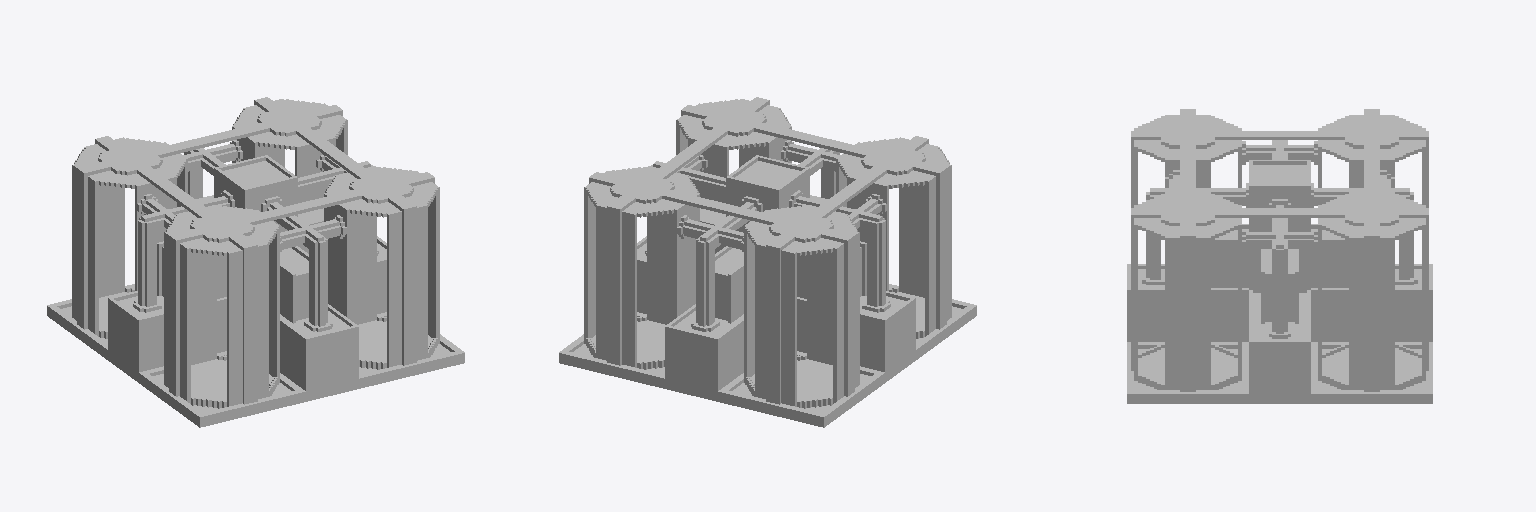
Rendered from matterShatterer.obj.
3 views of the same model, side by side, from view 1: azimuth 30°, elevation 25°; view 2: azimuth 150°, elevation 25°; view 3: azimuth 270°, elevation 25° (orthographic).
Visible parts, largest first — view 1: Matter_Shatterer; view 2: Matter_Shatterer; view 3: Matter_Shatterer.
Boxes of the visible parts, x1=… form: Matter_Shatterer: x1=47, y1=97, x2=464, y2=427; Matter_Shatterer: x1=559, y1=97, x2=976, y2=427; Matter_Shatterer: x1=1127, y1=109, x2=1432, y2=403.
Bounding box in the file's own units: 80 × 48 × 80.